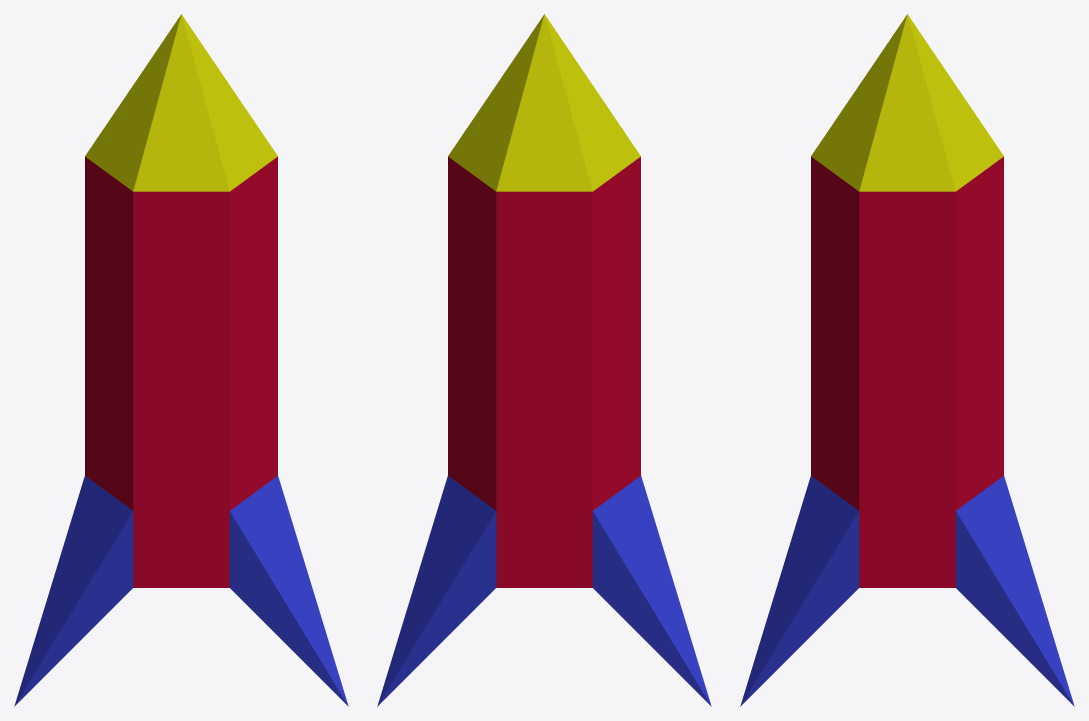
File: torpedo.fbx
The picture shows the model from 3 angles, left to right: view 1: azimuth 30°, elevation 25°; view 2: azimuth 150°, elevation 25°; view 3: azimuth 270°, elevation 25°; orthographic projection.
Parts seen in each view (by area): view 1: Cylinder; view 2: Cylinder; view 3: Cylinder.
Boxes of the visible parts, left/top/right/bottom form: Cylinder: left=14, top=14, right=348, bottom=706; Cylinder: left=377, top=14, right=711, bottom=706; Cylinder: left=740, top=14, right=1074, bottom=706.
Bounding box in the file's own units: 300 × 745 × 346.
